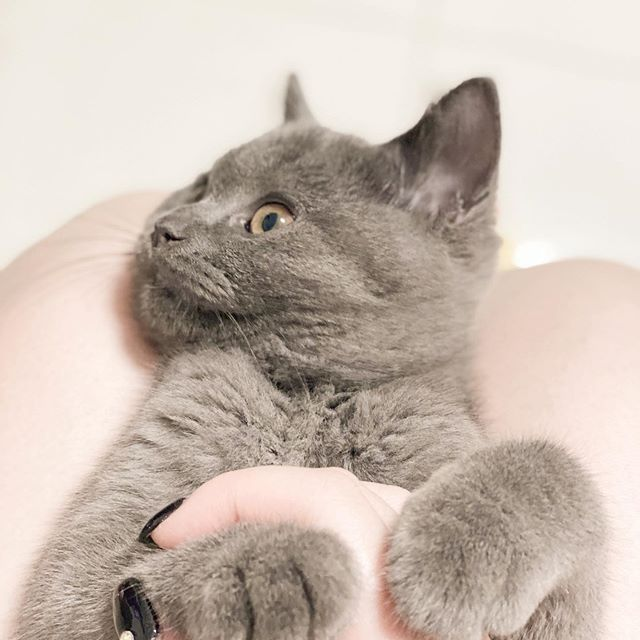cat: (131, 64, 509, 403)
